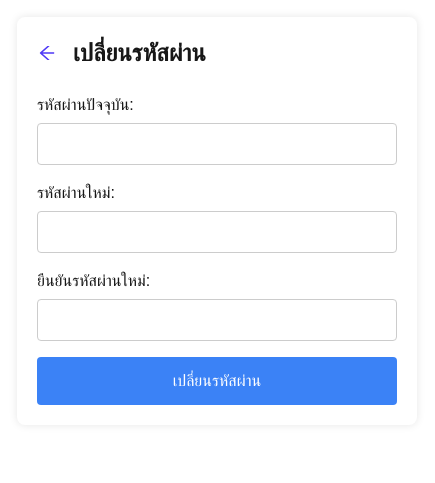
Scenario: ChangePassword › ควรแสดงข้อผิดพลาดเมื่อไม่มี userId ใน localStorage
This screenshot has width=435, height=483.
Type "oldpass" into the password field labelled "รหัสผ่านปัจจุบัน:" at (217, 144), box 37,123 -> 397,165
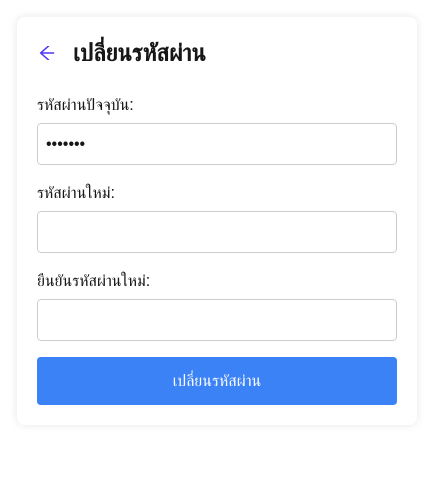
Type "newpass123" into the password field labelled "รหัสผ่านใหม่:" at (217, 232), box 37,211 -> 397,253
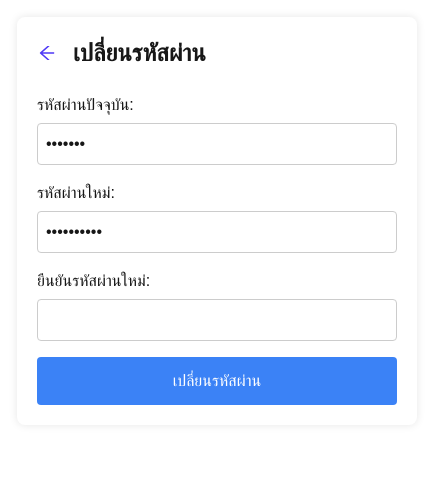
Type "newpass123" into the password field labelled "ยืนยันรหัสผ่านใหม่:" at (217, 320), box 37,299 -> 397,341
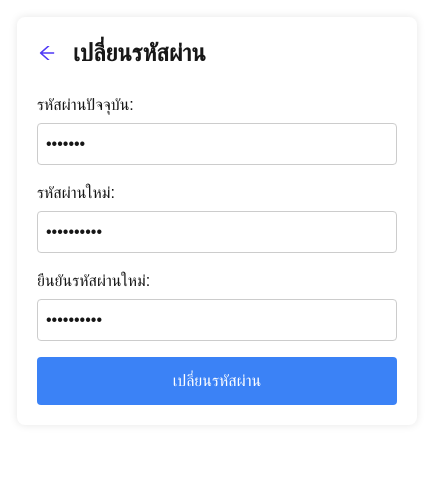
Click the button "เปลี่ยนรหัสผ่าน" at (217, 381), box 37,357 -> 397,405
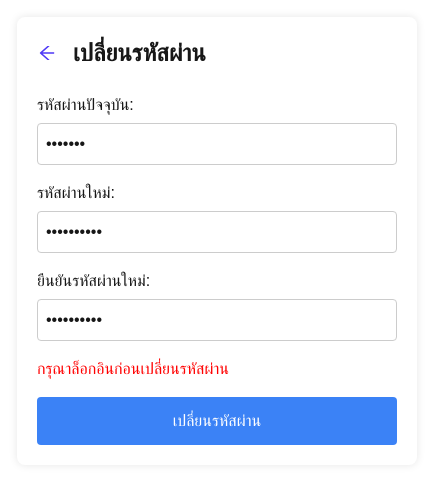
Expected: the text "กรุณาล็อกอินก่อนเปลี่ยนรหัสผ่าน" is shown, 37,360 -> 229,377
